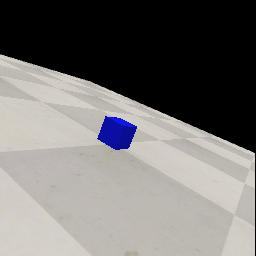box: (97, 116, 137, 150)
